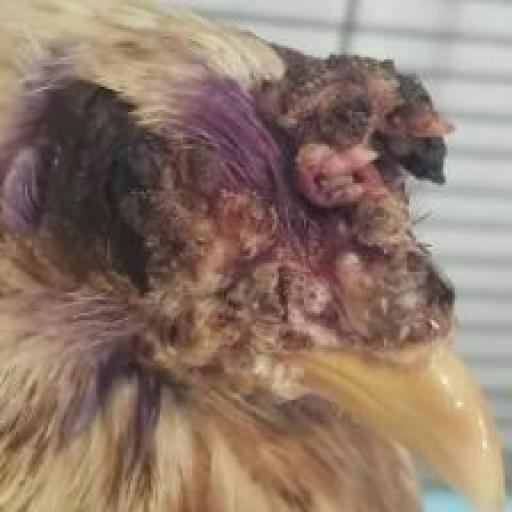disease: (15, 52, 472, 404)
